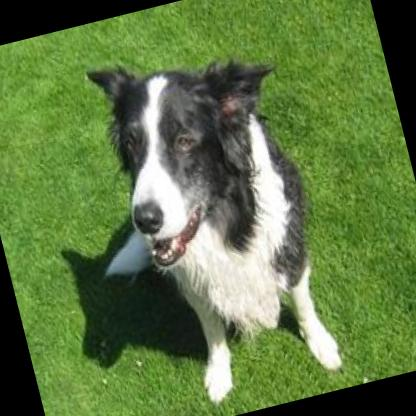Border_collie: (52, 19, 351, 416)
